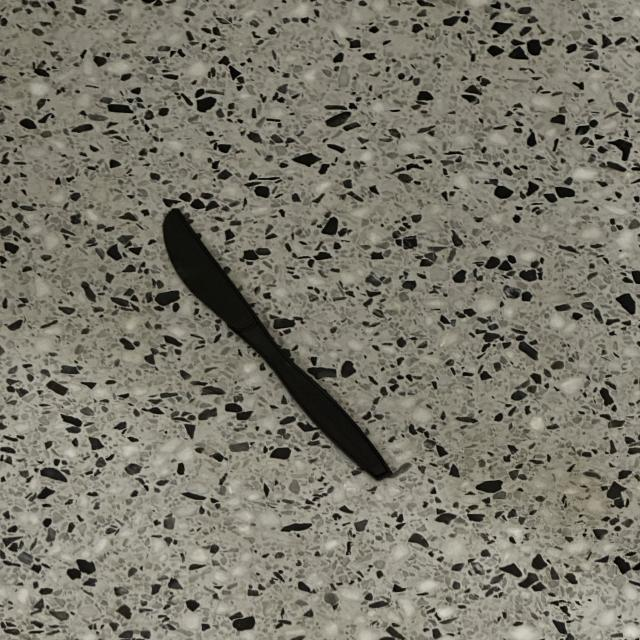knife: (95, 144, 465, 528)
